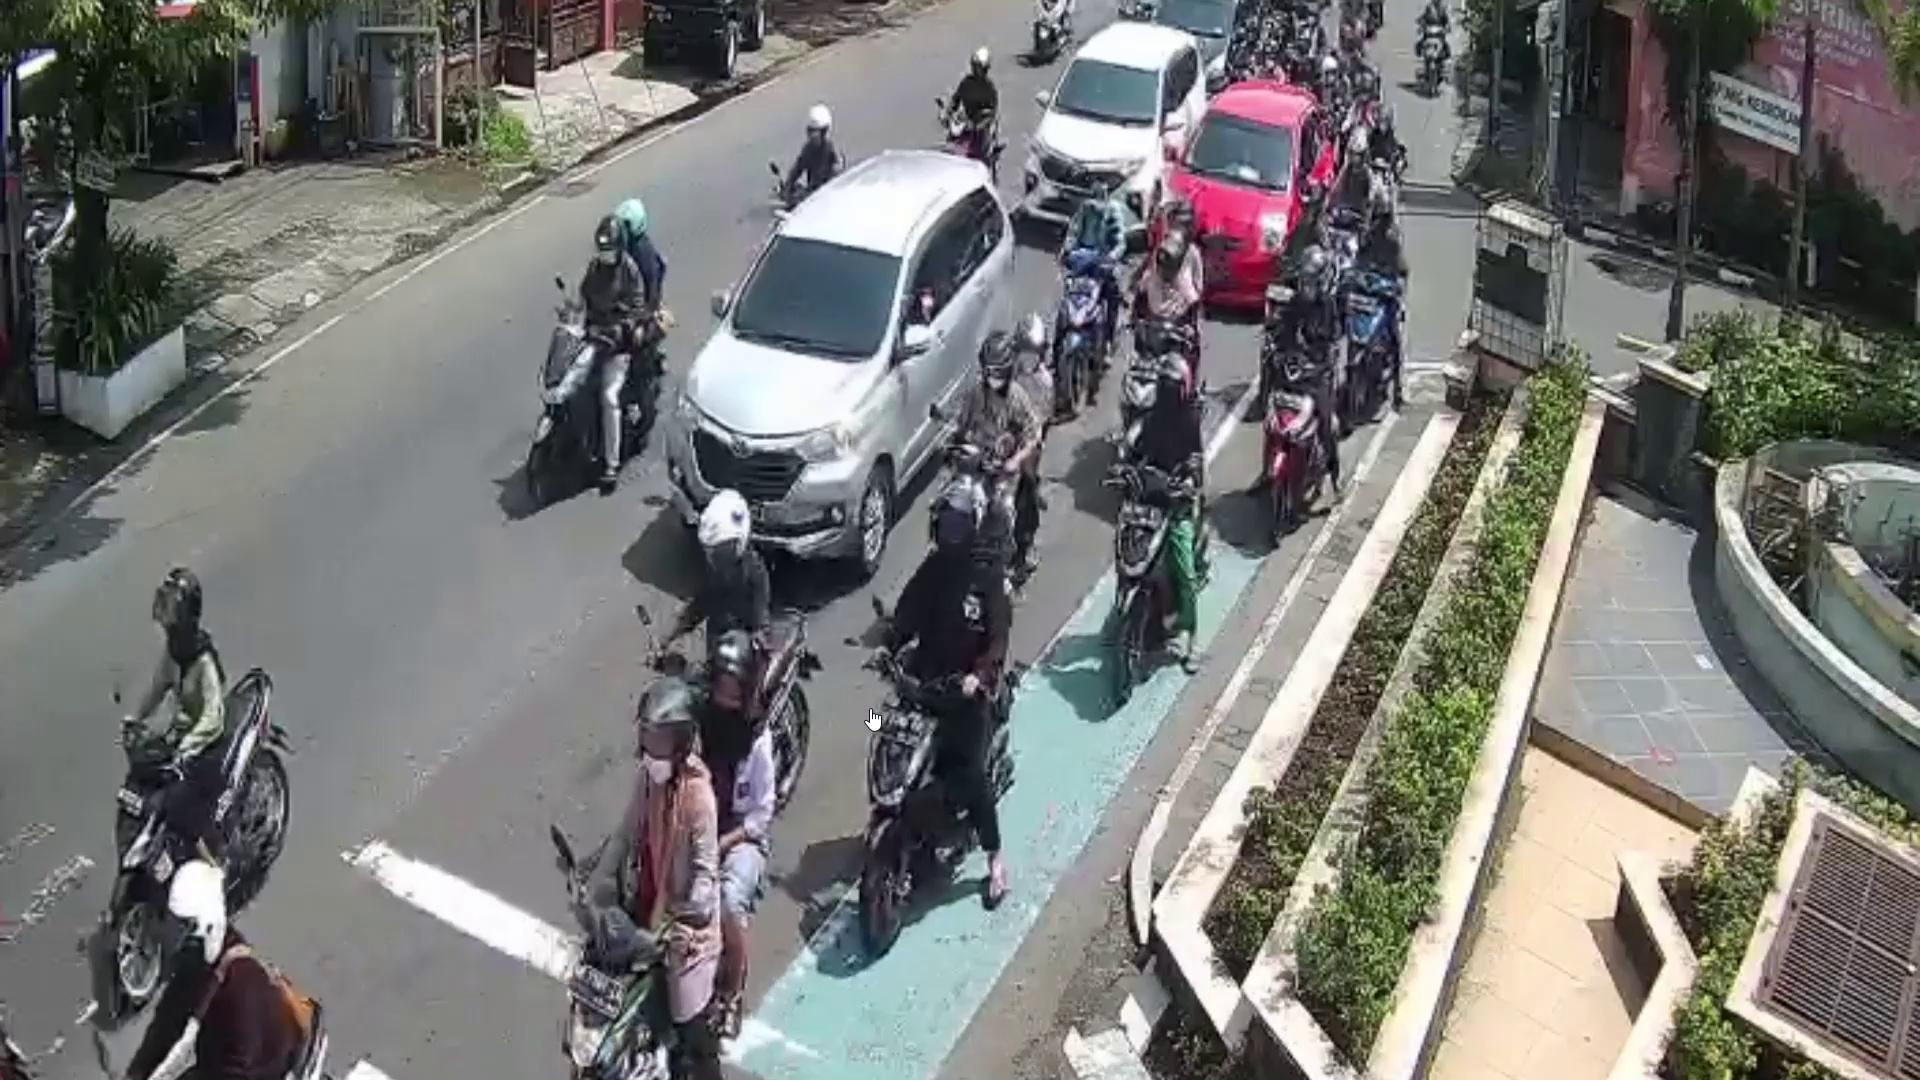car: (667, 146, 1018, 575), (1158, 80, 1337, 316), (1026, 24, 1211, 233), (1143, 0, 1262, 88)
motorbike: (105, 661, 293, 993), (858, 637, 1015, 953), (517, 295, 663, 500), (1109, 463, 1204, 703), (568, 889, 663, 1080), (1255, 353, 1320, 541), (1345, 264, 1402, 421)
